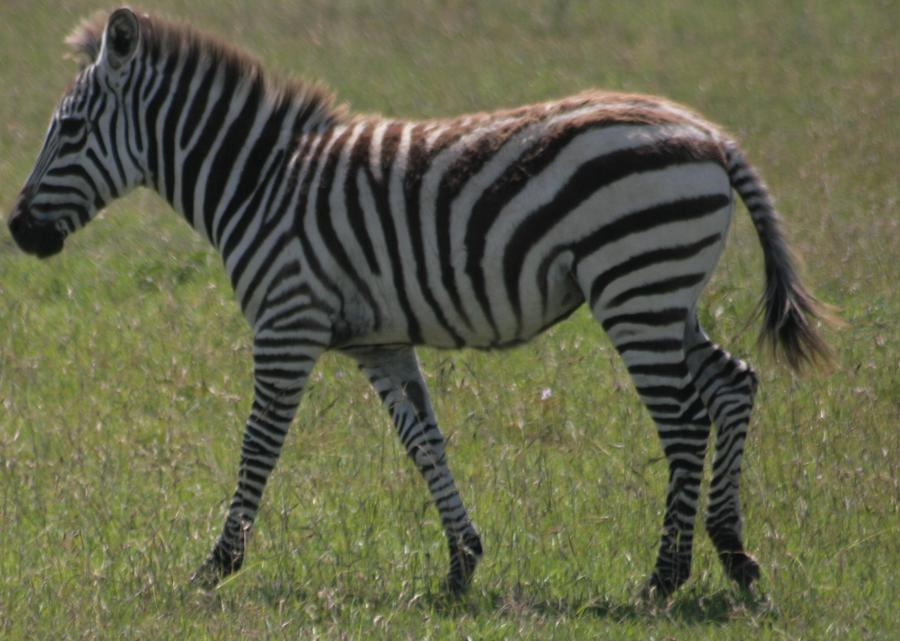zebra_plains: (218, 83, 732, 352)
